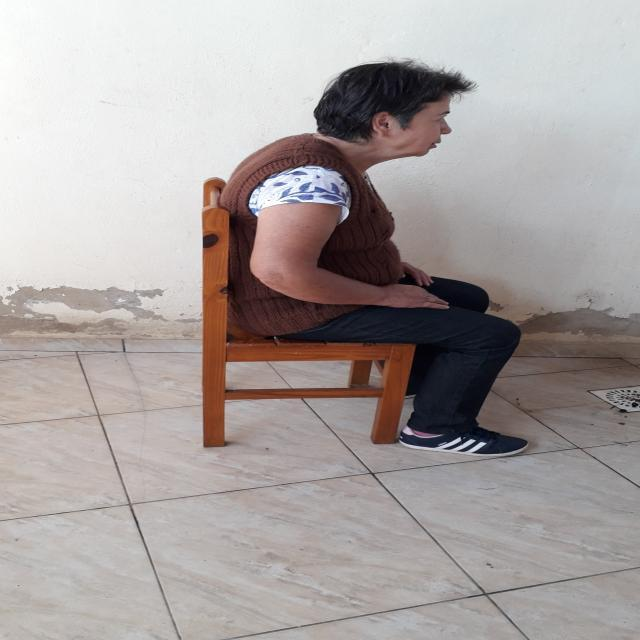bad-pose: (0, 0, 640, 640)
